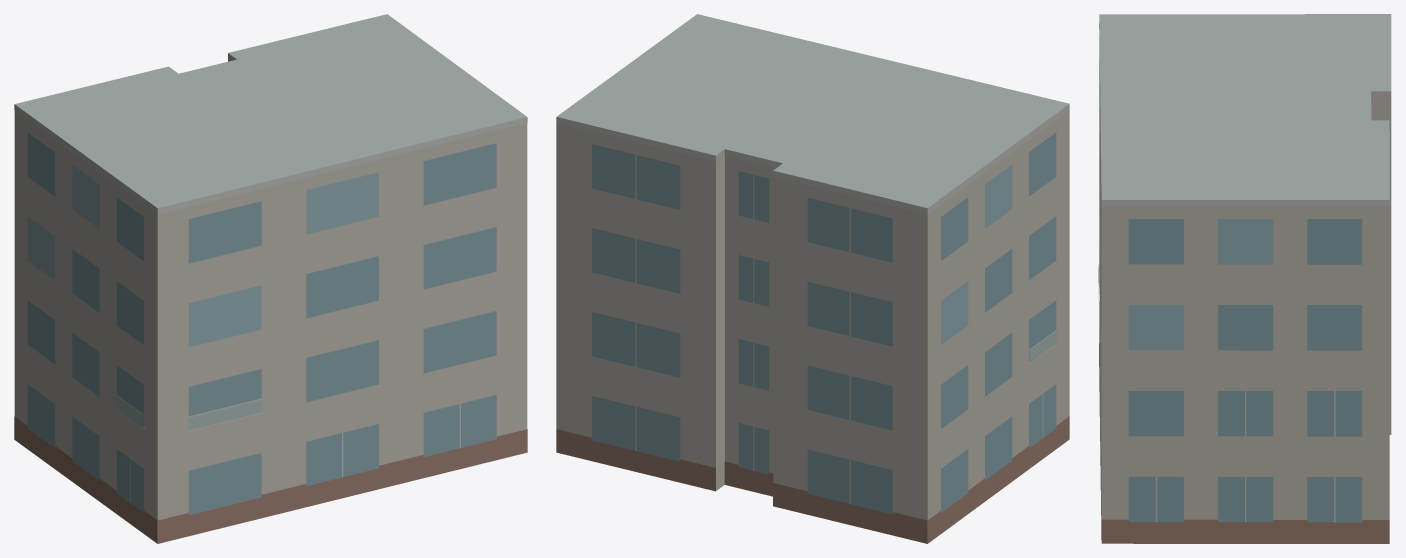
The model's file is survey-upis-32802619.glb.
3 renders of one model, left to right at view 1: azimuth 30°, elevation 25°; view 2: azimuth 150°, elevation 25°; view 3: azimuth 270°, elevation 25°, orthographic. The views are drawn at different scales.
Visible parts, largest first — view 1: survey-upis-32802619.tmp; view 2: survey-upis-32802619.tmp; view 3: survey-upis-32802619.tmp.
Boxes of the visible parts, x1=… form: survey-upis-32802619.tmp: x1=14, y1=14, x2=527, y2=543; survey-upis-32802619.tmp: x1=556, y1=14, x2=1069, y2=543; survey-upis-32802619.tmp: x1=1098, y1=14, x2=1391, y2=543.
Bounding box in the file's own units: 15.22 × 13.1 × 10.13.
